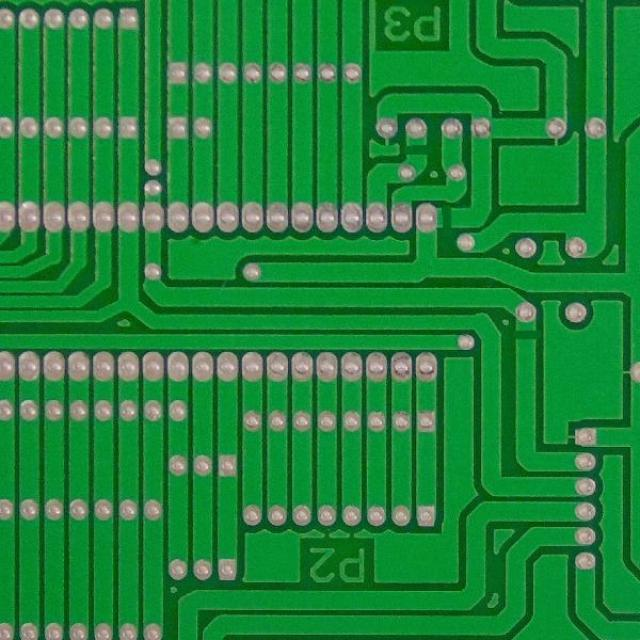open_circuit: (510, 324, 541, 348), (436, 202, 458, 234), (403, 140, 430, 162)
